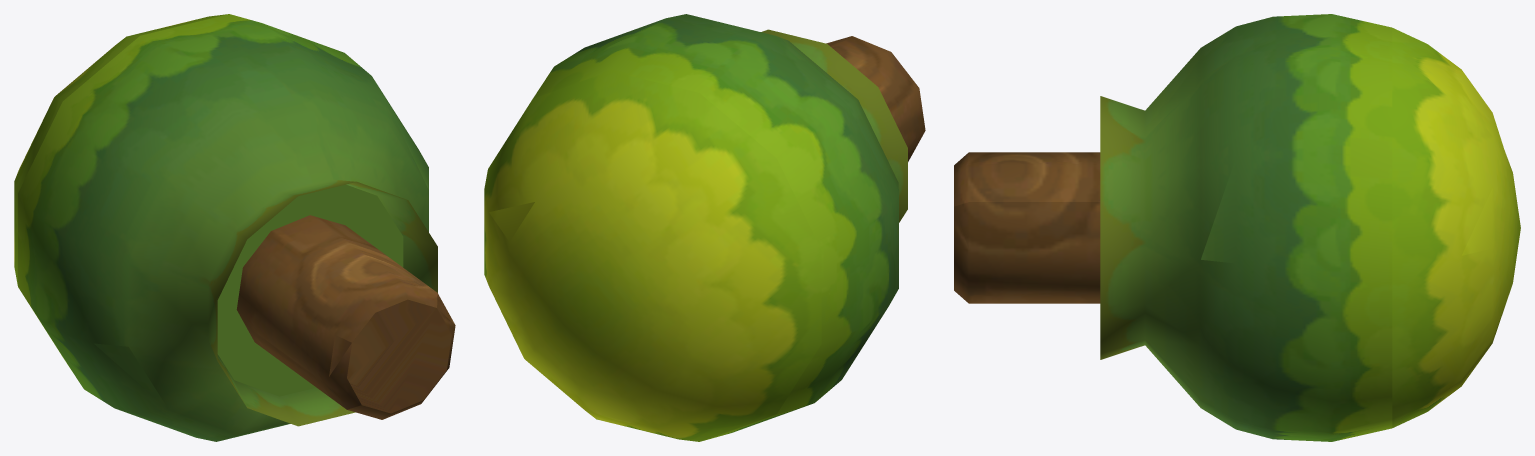
Rendered from tree.dae.
3 views of the same model, side by side, from view 1: azimuth 30°, elevation 25°; view 2: azimuth 150°, elevation 25°; view 3: azimuth 270°, elevation 25° (orthographic). The views are drawn at different scales.
Parts seen in each view (by area): view 1: Mesh_0107; view 2: Mesh_0107; view 3: Mesh_0107.
Boxes of the visible parts, x1,y1,x2,y2 form: Mesh_0107: [14, 14, 455, 441]; Mesh_0107: [484, 14, 925, 441]; Mesh_0107: [954, 14, 1520, 441].
Size of the model in its own units: 1.38 by 1.86 by 1.38.
Materials: 1 (1 with a texture image).
